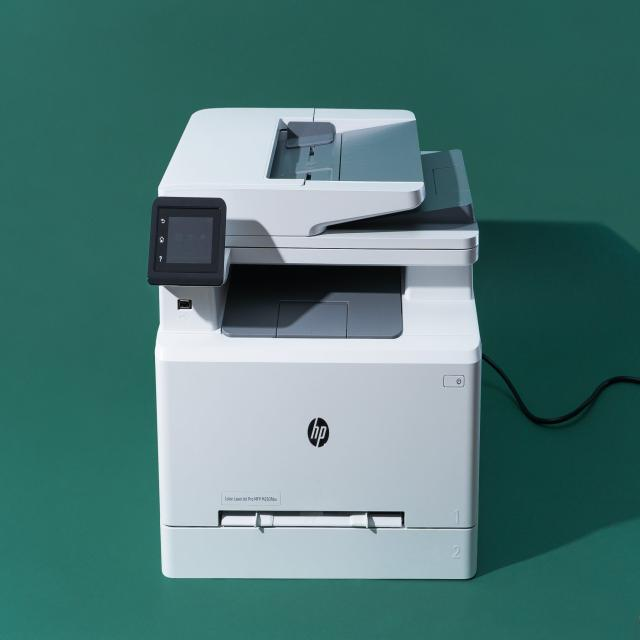printer: (148, 105, 482, 580)
